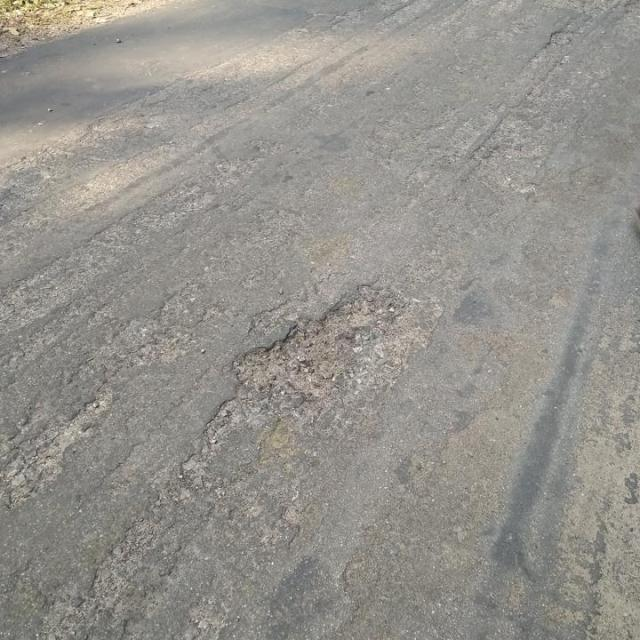pothole: (227, 295, 382, 404)
